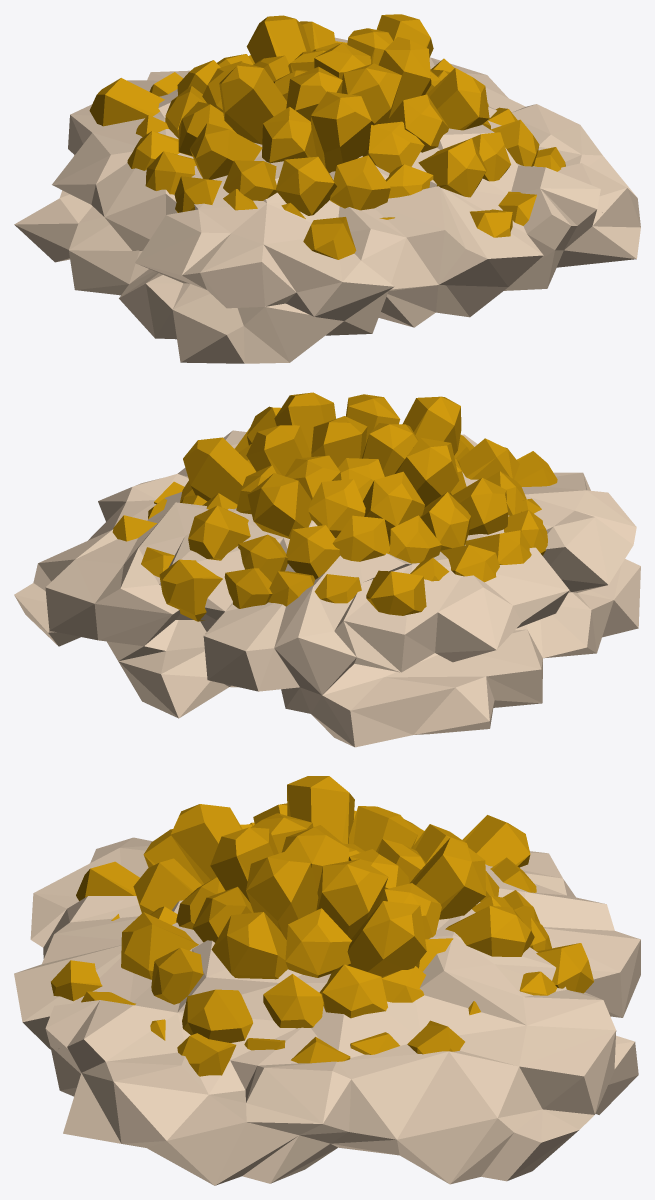
Rendered from agulite_lod1.fbx.
3 renders of one model, top to bottom at view 1: azimuth 30°, elevation 25°; view 2: azimuth 150°, elevation 25°; view 3: azimuth 270°, elevation 25°, orthographic. The views are drawn at different scales.
Visible parts, largest first — view 1: agulite_base_lod1_low, agulite_lod1_low; view 2: agulite_base_lod1_low, agulite_lod1_low; view 3: agulite_base_lod1_low, agulite_lod1_low.
Boxes of the visible parts, <box> form: agulite_base_lod1_low: <box>14,37,640,363</box>; agulite_lod1_low: <box>89,14,565,259</box>; agulite_base_lod1_low: <box>14,430,640,747</box>; agulite_lod1_low: <box>112,392,557,621</box>; agulite_base_lod1_low: <box>14,837,640,1185</box>; agulite_lod1_low: <box>51,776,593,1076</box>.
Bounding box in the file's own units: 4.11 × 1.76 × 4.03.
